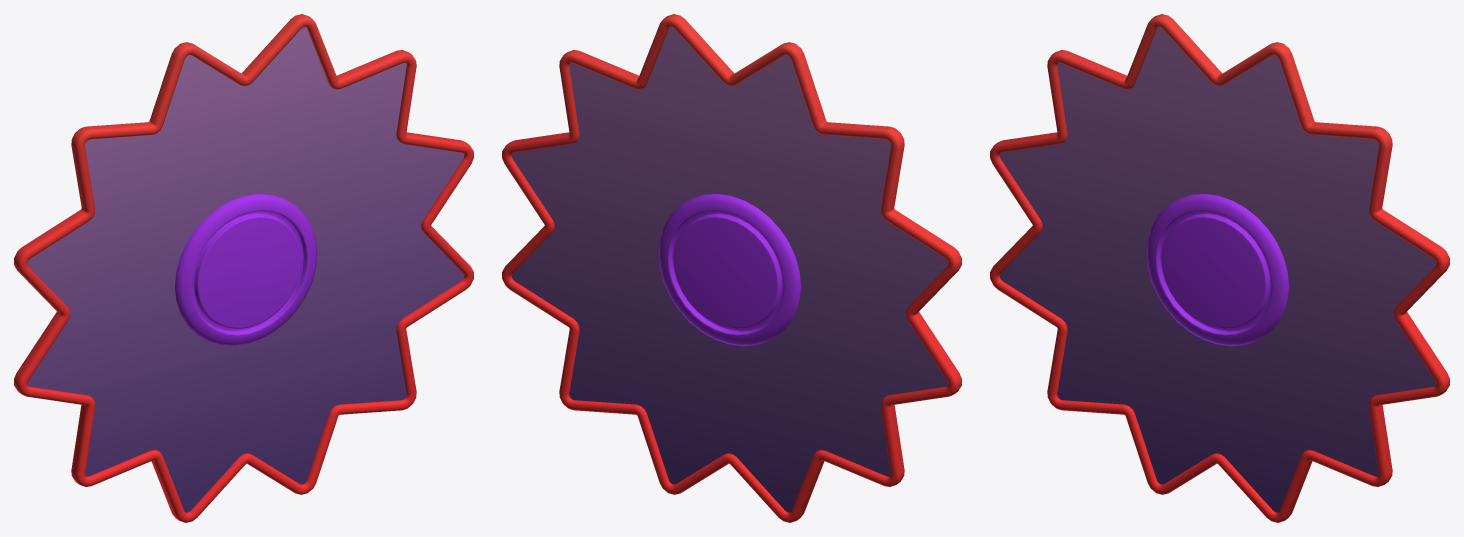
The model's file is Obs_07.fbx.
3 views of the same model, side by side, from view 1: azimuth 30°, elevation 25°; view 2: azimuth 150°, elevation 25°; view 3: azimuth 330°, elevation 25° (orthographic).
Parts seen in each view (by area): view 1: Obs_07_Saw_Transparan, Obs_07_Saw_Outer; view 2: Obs_07_Saw_Transparan, Obs_07_Saw_Outer; view 3: Obs_07_Saw_Transparan, Obs_07_Saw_Outer.
Boxes of the visible parts, x1,y1,x2,y2 form: Obs_07_Saw_Transparan: (27, 27, 463, 512); Obs_07_Saw_Outer: (14, 14, 473, 522); Obs_07_Saw_Transparan: (512, 27, 948, 512); Obs_07_Saw_Outer: (502, 14, 961, 522); Obs_07_Saw_Transparan: (1000, 27, 1436, 512); Obs_07_Saw_Outer: (990, 14, 1449, 522).
Bounding box in the file's own units: 2.05 × 2.05 × 0.0939.
